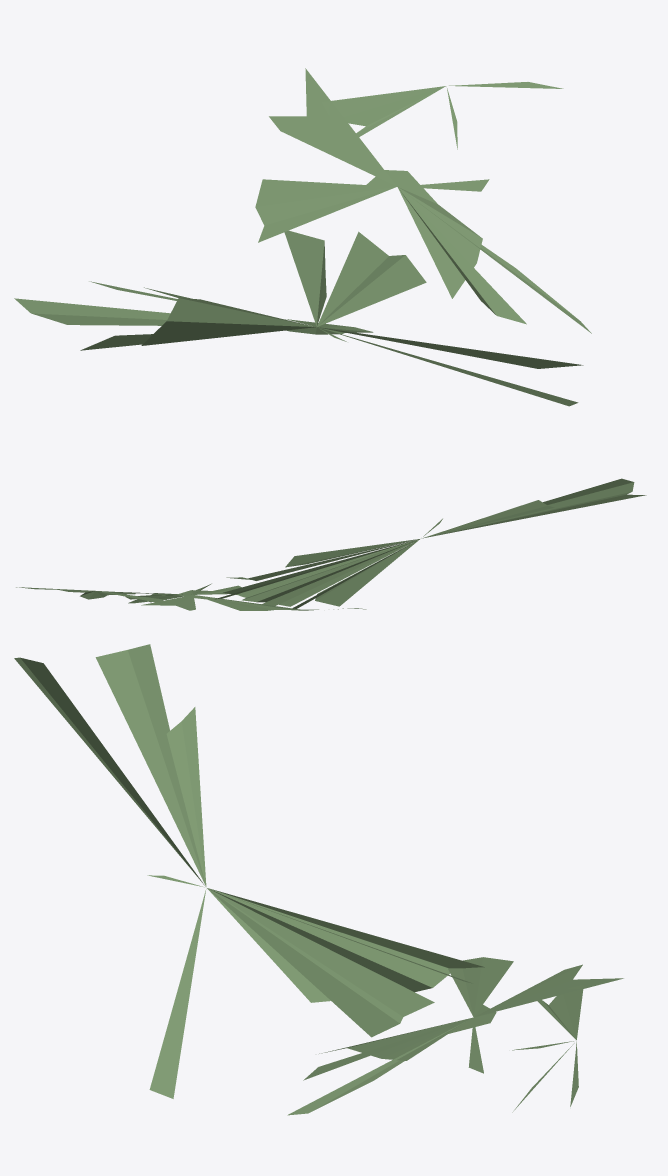
The model's file is c_1665_17820_parks.glb.
The picture shows the model from 3 angles, top to bottom: view 1: azimuth 30°, elevation 25°; view 2: azimuth 150°, elevation 25°; view 3: azimuth 270°, elevation 25°; orthographic projection. The views are drawn at different scales.
Parts seen in each view (by area): view 1: geometry_0; view 2: geometry_0; view 3: geometry_0.
Boxes of the visible parts, x1,y1,x2,y2 form: geometry_0: (14, 68, 591, 406); geometry_0: (16, 478, 646, 610); geometry_0: (14, 644, 623, 1115).
Bounding box in the file's own units: 468 × 174 × 389.
